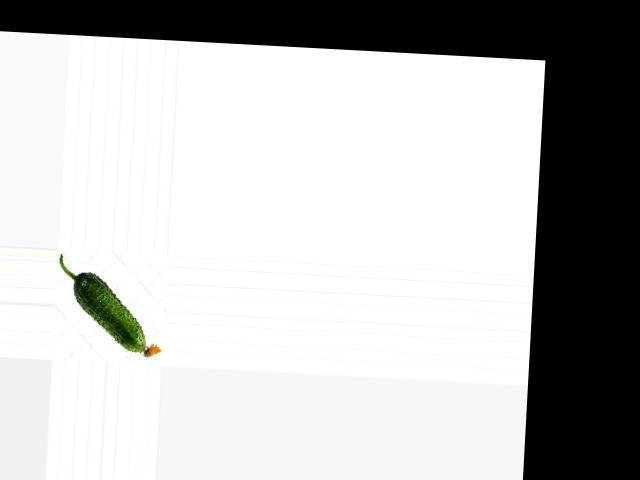cucumber: (55, 254, 167, 357)
